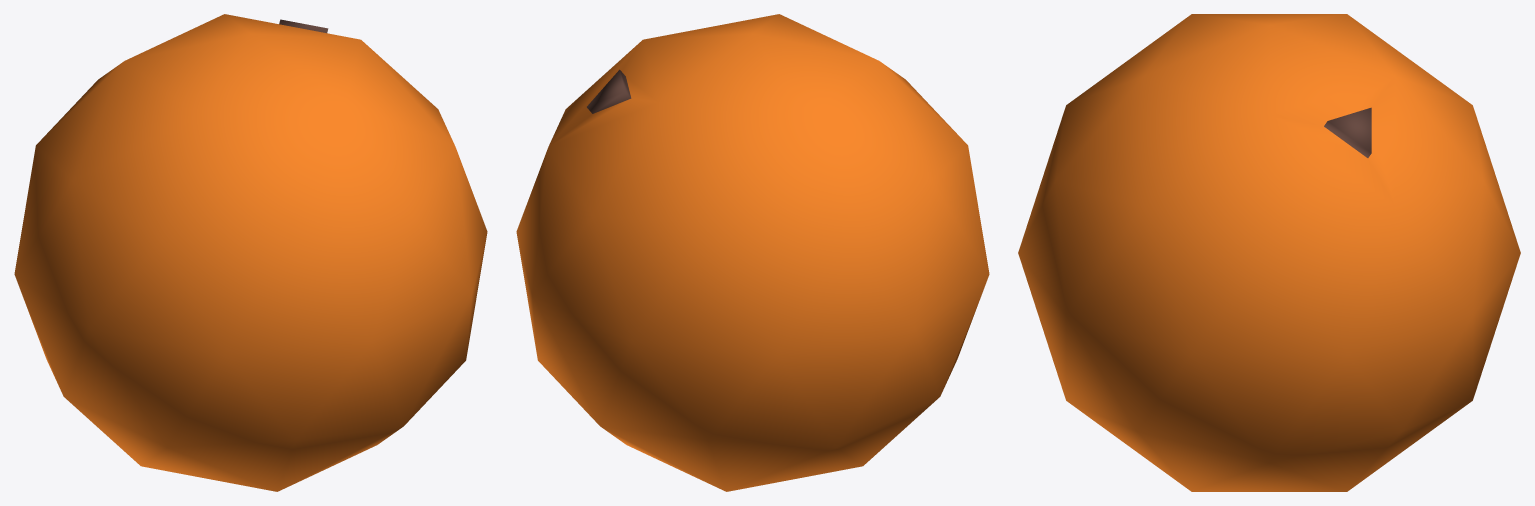
Rendered from orange.fbx.
3 views of the same model, side by side, from view 1: azimuth 30°, elevation 25°; view 2: azimuth 150°, elevation 25°; view 3: azimuth 270°, elevation 25° (orthographic). The views are drawn at different scales.
Parts seen in each view (by area): view 1: orange; view 2: orange; view 3: orange.
Boxes of the visible parts, box(x1,y1,x2,y2) form: orange: box(14, 14, 487, 491); orange: box(516, 14, 989, 491); orange: box(1018, 14, 1520, 491).
Bounding box in the file's own units: 27.36 × 28.76 × 28.76.
